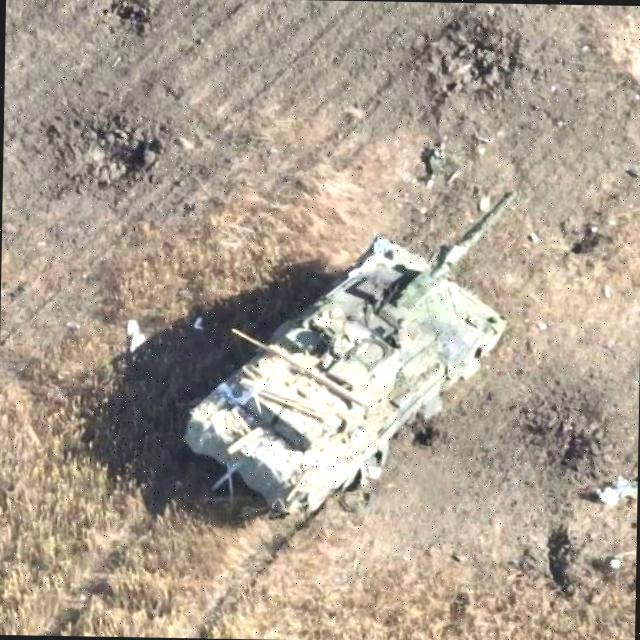MBT: (178, 183, 528, 531)
